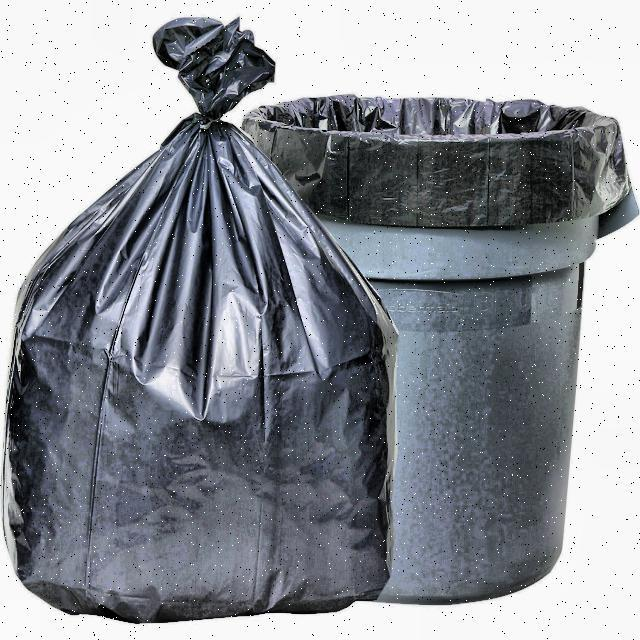Trashbag: (0, 12, 409, 626)
